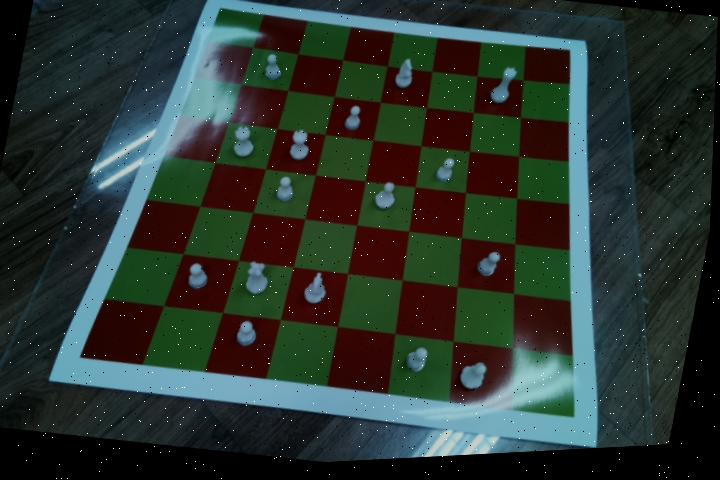chessboard-detect: (83, 9, 579, 423)
